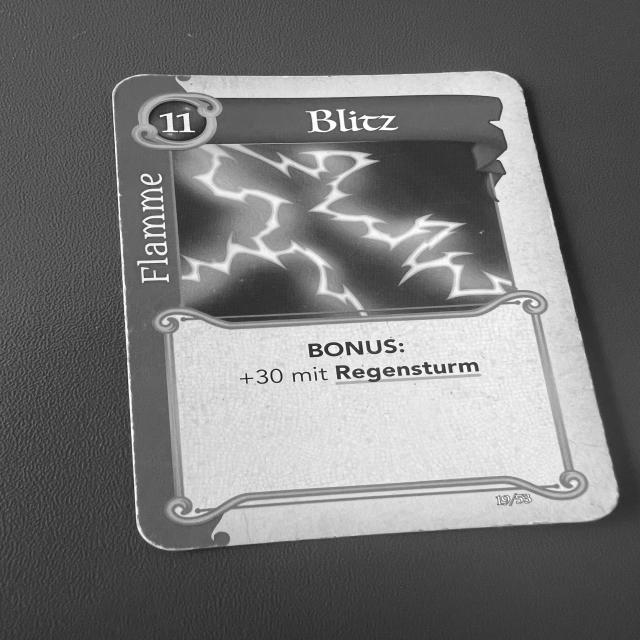Lightning: (109, 70, 631, 556)
